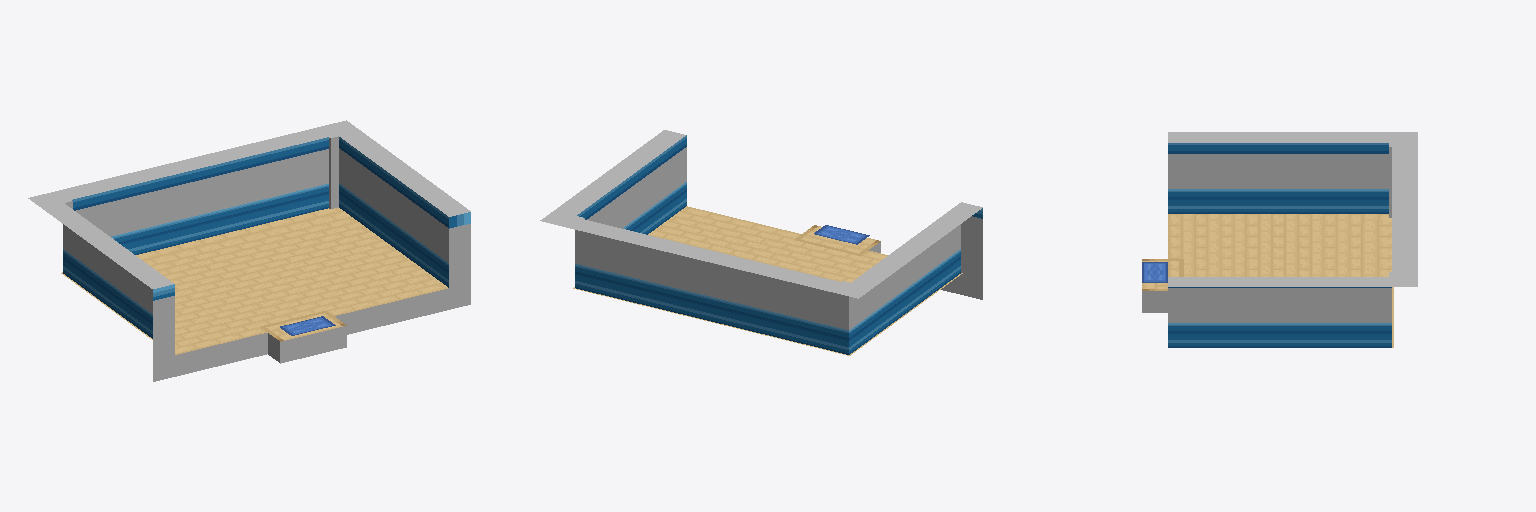
3 views of the same model, side by side, from view 1: azimuth 30°, elevation 25°; view 2: azimuth 150°, elevation 25°; view 3: azimuth 270°, elevation 25° (orthographic).
Parts seen in each view (by area): view 1: polygon0, polygon3, polygon1, polygon2, polygon5; view 2: polygon2, polygon1, polygon3, polygon0, polygon5; view 3: polygon2, polygon0, polygon1, polygon3, polygon5.
Part boxes in pixels (bbox=[...]): polygon0: bbox=[61, 207, 447, 354]; polygon3: bbox=[28, 120, 470, 381]; polygon1: bbox=[63, 137, 470, 338]; polygon2: bbox=[63, 148, 448, 313]; polygon5: bbox=[280, 316, 335, 335]; polygon2: bbox=[575, 147, 960, 329]; polygon1: bbox=[575, 135, 982, 354]; polygon3: bbox=[540, 130, 982, 299]; polygon0: bbox=[573, 206, 962, 355]; polygon5: bbox=[814, 225, 869, 244]; polygon2: bbox=[1168, 154, 1391, 322]; polygon0: bbox=[1142, 214, 1393, 347]; polygon1: bbox=[1168, 143, 1391, 347]; polygon3: bbox=[1142, 132, 1417, 312]; polygon5: bbox=[1142, 262, 1167, 282].
Bounding box in the file's own units: 3.59 × 1 × 2.69.
6 materials, 4 textured.